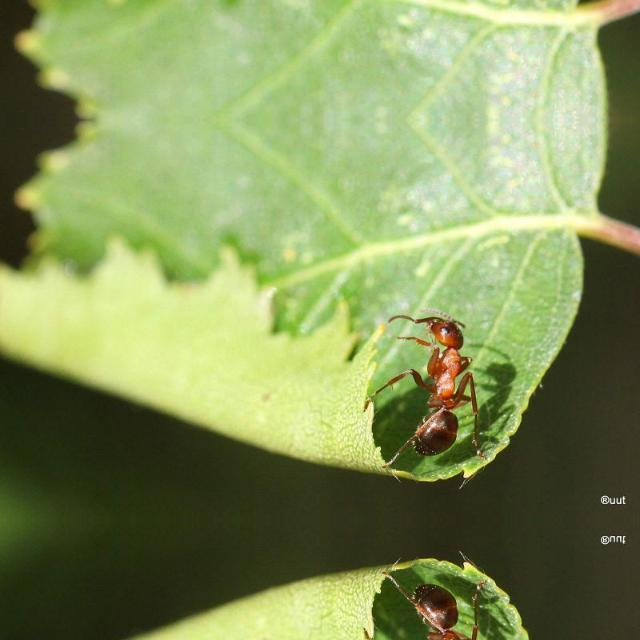Formica: (391, 314, 495, 454), (391, 584, 495, 640)
